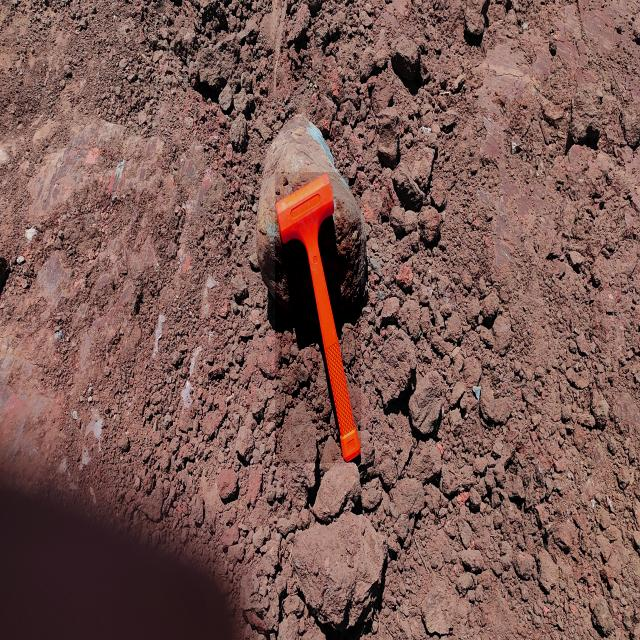Orange_hammer: (275, 172, 361, 463)
